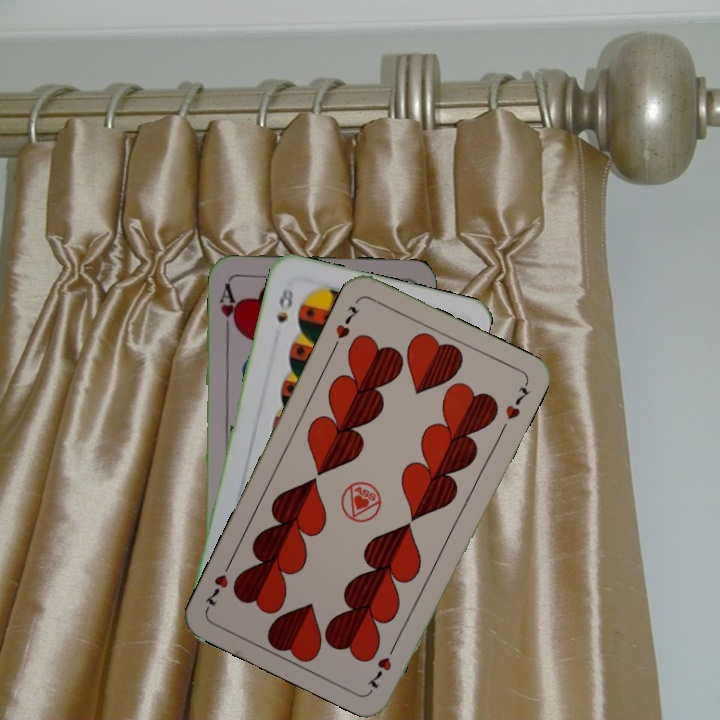H7: (364, 638, 400, 693), (329, 302, 362, 352)
HA: (215, 279, 241, 336)
S8: (273, 284, 296, 325)
